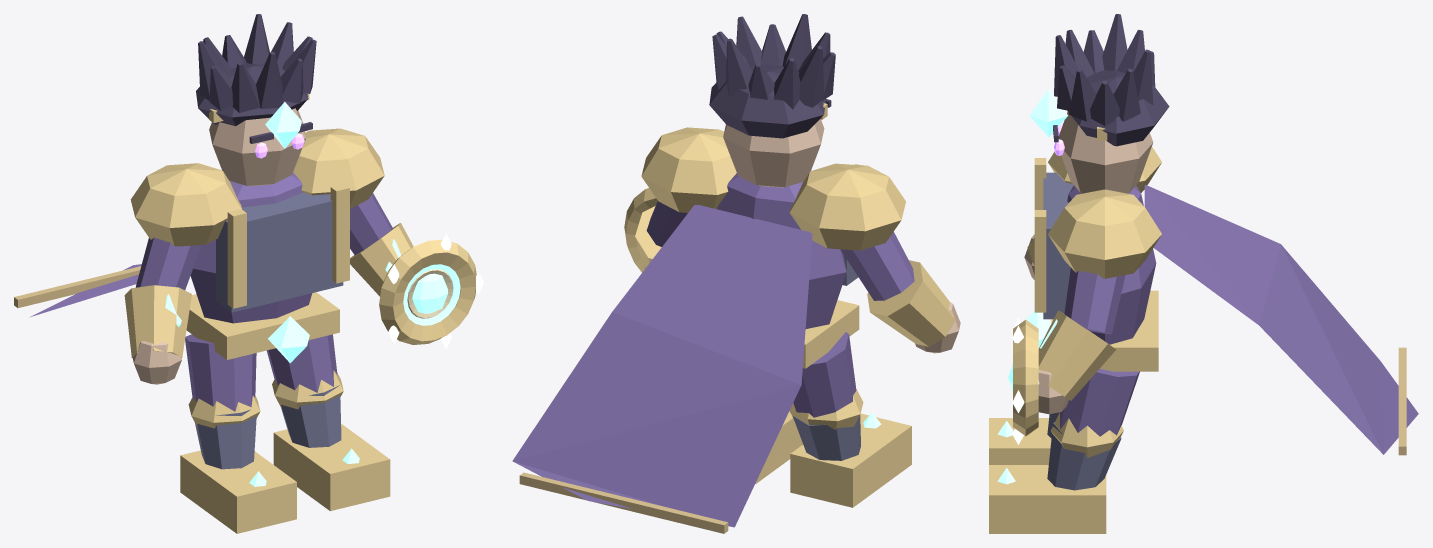
Rendered from RelicHero_Mobile.glb.
The picture shows the model from 3 angles, left to right: view 1: azimuth 30°, elevation 25°; view 2: azimuth 150°, elevation 25°; view 3: azimuth 270°, elevation 25°; orthographic projection. The views are drawn at different scales.
Visible parts, largest first — view 1: RelicHero_gold, RelicHero_cloth, RelicHero_dark_metal, RelicHero_hair, RelicHero_skin, RelicHero_cyan, RelicHero_cloth_gold, RelicHero_gold_light, RelicHero_ice; view 2: RelicHero_cloth, RelicHero_gold, RelicHero_hair, RelicHero_skin, RelicHero_cloth_gold, RelicHero_dark_metal; view 3: RelicHero_cloth, RelicHero_gold, RelicHero_hair, RelicHero_skin, RelicHero_dark_metal, RelicHero_cyan, RelicHero_cloth_gold.
Part boxes in pixels (left/top/right/bottom): RelicHero_gold: left=124, top=93, right=476, bottom=533; RelicHero_cloth: left=29, top=172, right=392, bottom=411; RelicHero_dark_metal: left=195, top=193, right=343, bottom=469; RelicHero_hair: left=196, top=14, right=316, bottom=143; RelicHero_skin: left=132, top=108, right=306, bottom=384; RelicHero_cyan: left=165, top=102, right=460, bottom=486; RelicHero_cloth_gold: left=14, top=266, right=141, bottom=307; RelicHero_gold_light: left=407, top=269, right=453, bottom=318; RelicHero_ice: left=388, top=234, right=483, bottom=348; RelicHero_cloth: left=512, top=173, right=914, bottom=527; RelicHero_gold: left=624, top=103, right=955, bottom=507; RelicHero_hair: left=709, top=14, right=835, bottom=138; RelicHero_skin: left=644, top=119, right=960, bottom=353; RelicHero_cloth_gold: left=519, top=472, right=728, bottom=533; RelicHero_dark_metal: left=792, top=170, right=860, bottom=460; RelicHero_cloth: left=1057, top=185, right=1418, bottom=454; RelicHero_gold: left=989, top=127, right=1161, bottom=533; RelicHero_hair: left=1053, top=14, right=1169, bottom=146; RelicHero_skin: left=1024, top=112, right=1153, bottom=414; RelicHero_dark_metal: left=1043, top=172, right=1121, bottom=490; RelicHero_cyan: left=997, top=89, right=1067, bottom=484; RelicHero_cloth_gold: left=1398, top=347, right=1406, bottom=455.
Bounding box in the file's own units: 2.74 × 3.43 × 2.93.
